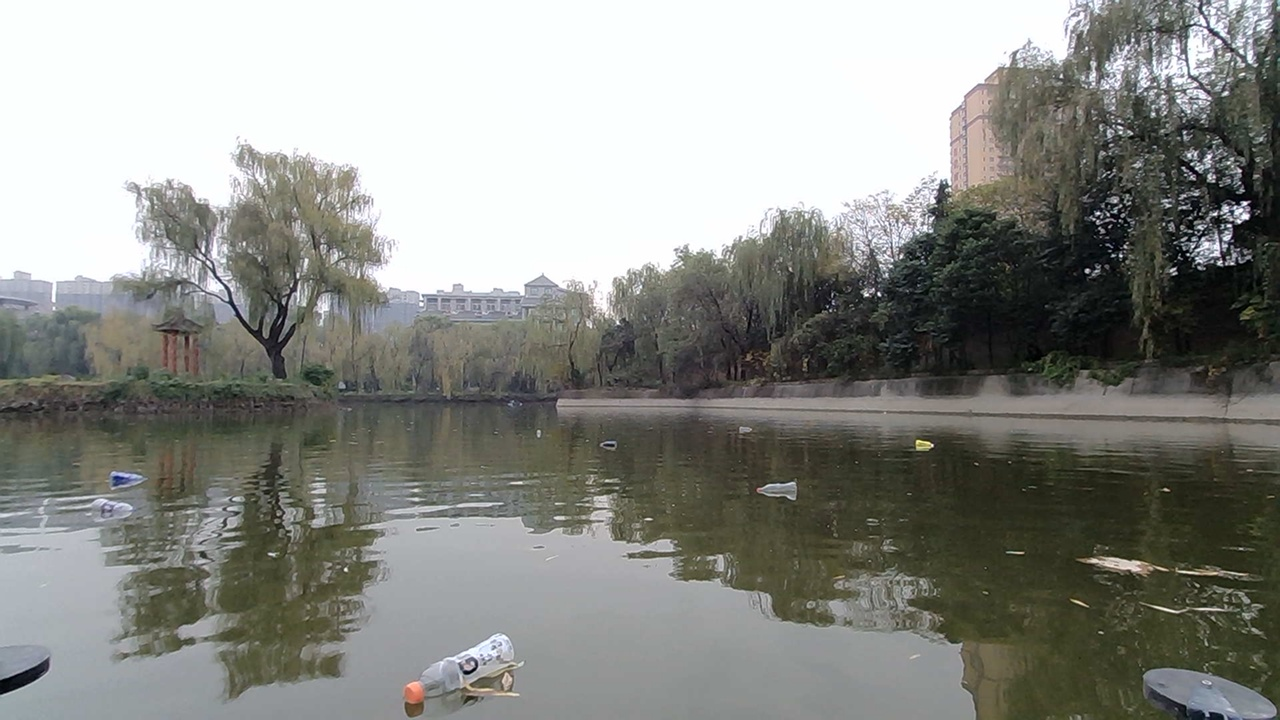bottle: (438, 634, 526, 696), (753, 461, 810, 512), (87, 488, 134, 530), (897, 421, 936, 464), (523, 418, 558, 449), (731, 417, 769, 442), (601, 423, 625, 458), (110, 466, 136, 495)
